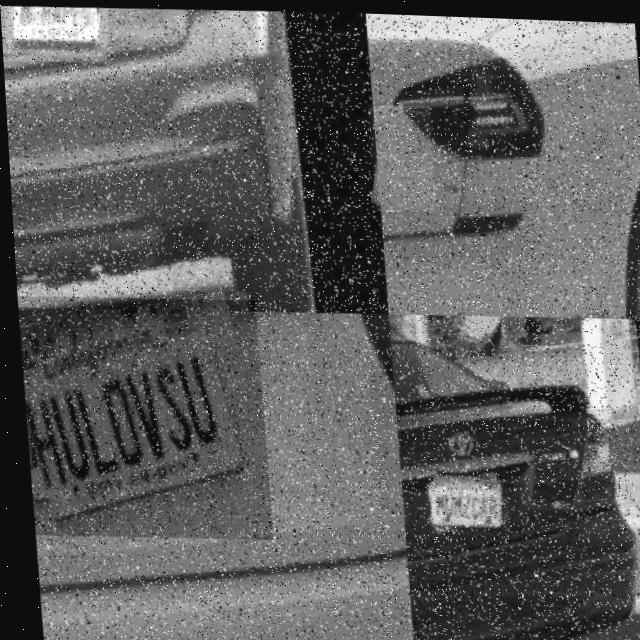LicensePlate: (14, 291, 266, 541), (366, 101, 434, 209), (4, 4, 110, 64), (428, 473, 501, 525)
